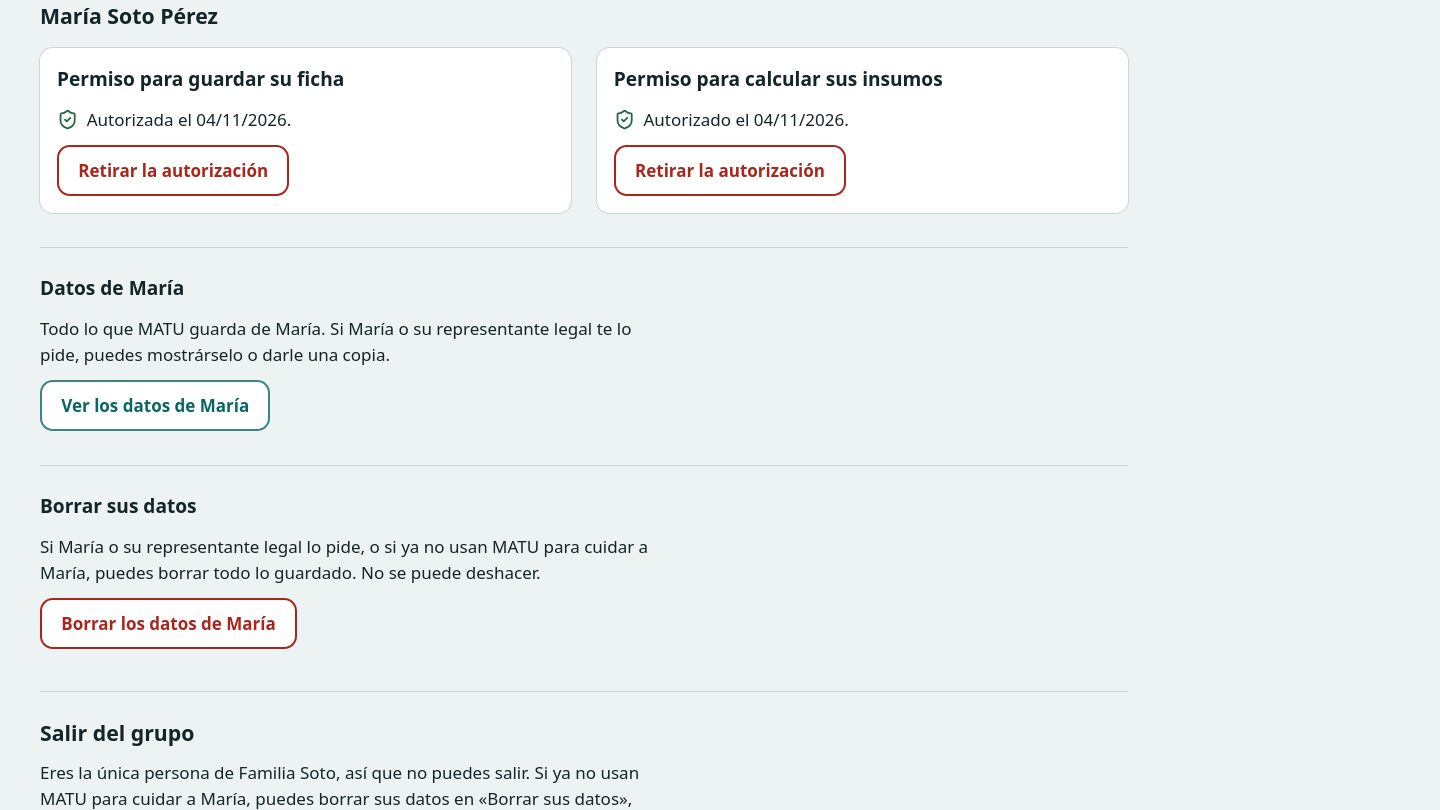
Scenario: «Datos de María» desde Grupo familiar (2) › admin: el bloque va entre los permisos y «Borrar sus datos», en secundario; abre /grupo/datos sin el id
(page scrolled)
Check: the text "Todo lo que MATU guarda de María. Si María o su representante legal te lo pide, puedes mostrárselo o darle una copia." is shown, box [40,317,632,366]
What coordinates should you click on to do the following:
click the button "Ver los datos de María"
I would click on:
 (155, 406)
Its box is [40,380,270,431].
(page scrolled)
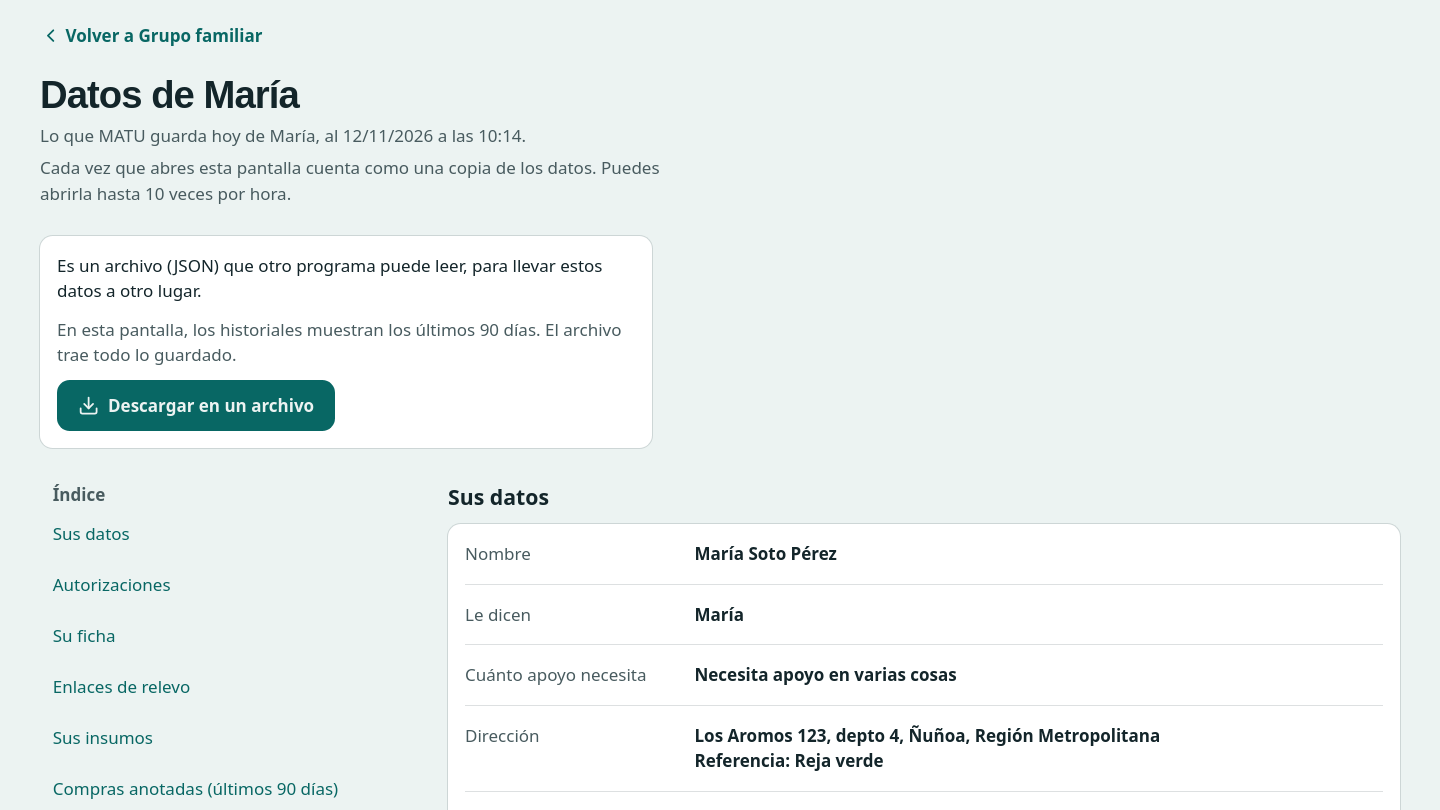
Check: the heading "Datos de María" is shown, box [40,73,299,116]
Check: the button "Descargar en un archivo" is shown, box [57,380,335,431]
